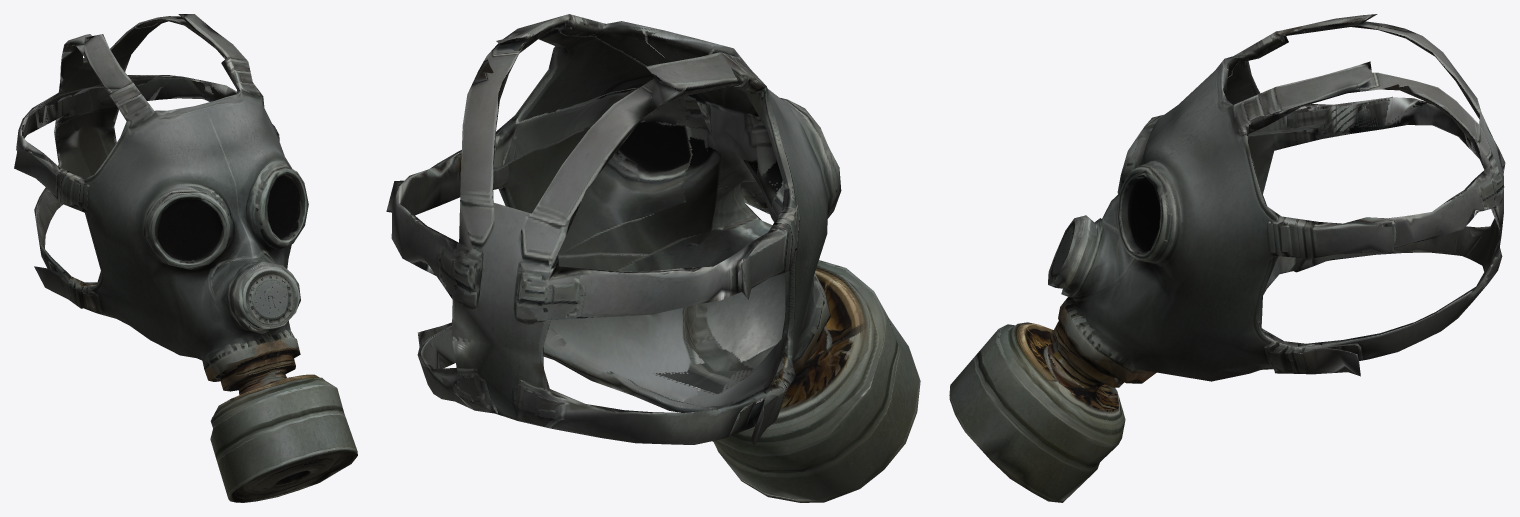
The model's file is Basic Gas Mask.fbx.
3 renders of one model, left to right at view 1: azimuth 30°, elevation 25°; view 2: azimuth 150°, elevation 25°; view 3: azimuth 270°, elevation 25°, orthographic. The views are drawn at different scales.
Parts seen in each view (by area): view 1: texture_mapping; view 2: texture_mapping; view 3: texture_mapping.
Part boxes in pixels (x1,y1,x2,y2): texture_mapping: [14, 14, 357, 502]; texture_mapping: [386, 14, 920, 502]; texture_mapping: [949, 14, 1505, 502].
Size of the model in its own units: 0.5679 by 0.9909 by 0.8883.
Materials: 1 (1 with a texture image).
